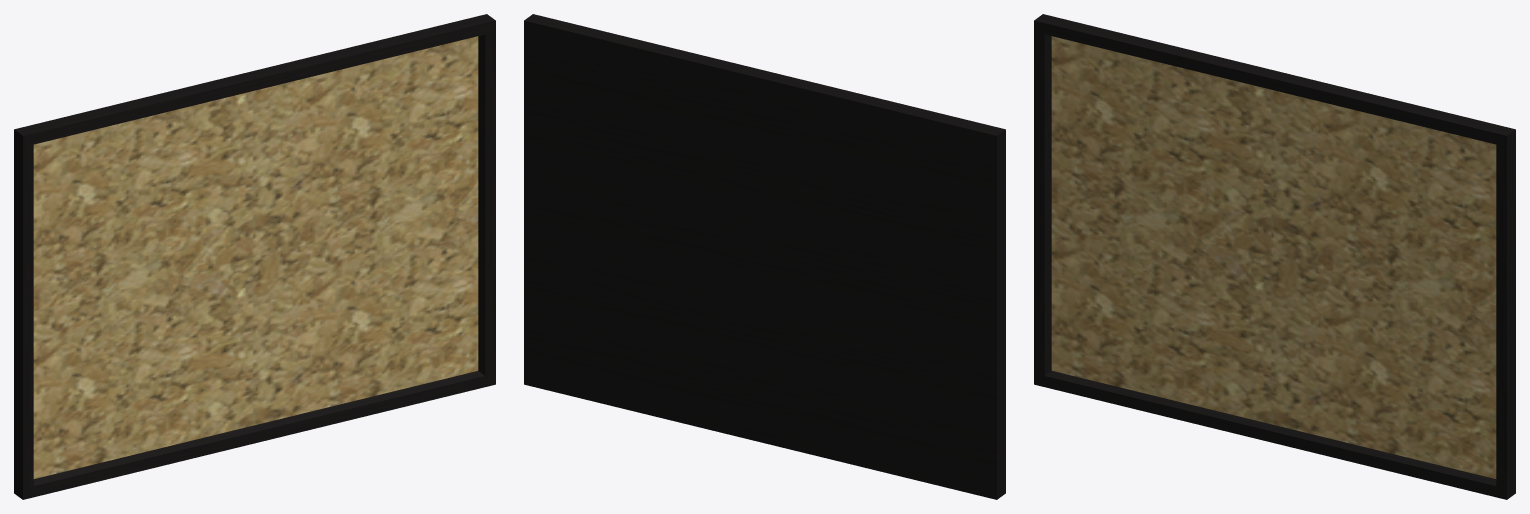
Rendered from Corkboard_B.FBX.
3 views of the same model, side by side, from view 1: azimuth 30°, elevation 25°; view 2: azimuth 150°, elevation 25°; view 3: azimuth 330°, elevation 25° (orthographic).
Parts seen in each view (by area): view 1: Corkboard; view 2: Corkboard; view 3: Corkboard.
Part boxes in pixels (<box>): Corkboard: <box>14,14,495,499</box>; Corkboard: <box>524,14,1005,499</box>; Corkboard: <box>1034,14,1515,499</box>.
Size of the model in its own units: 143 by 105 by 4.7.
